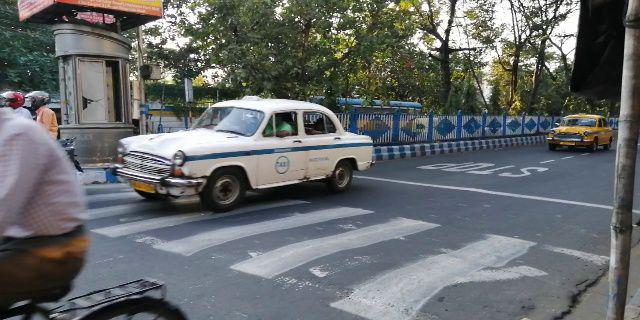Car: (112, 95, 375, 206), (541, 103, 613, 154)
